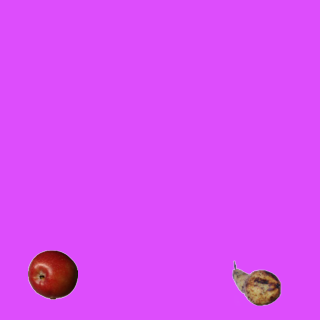Apple Braeburn: (27, 249, 77, 299)
Pear Abate: (231, 258, 281, 308)
